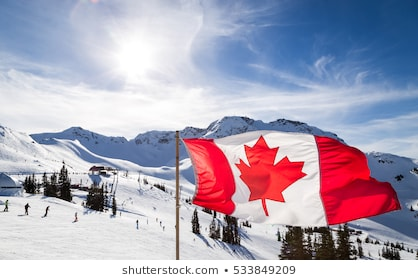Flag: (180, 131, 402, 228)
